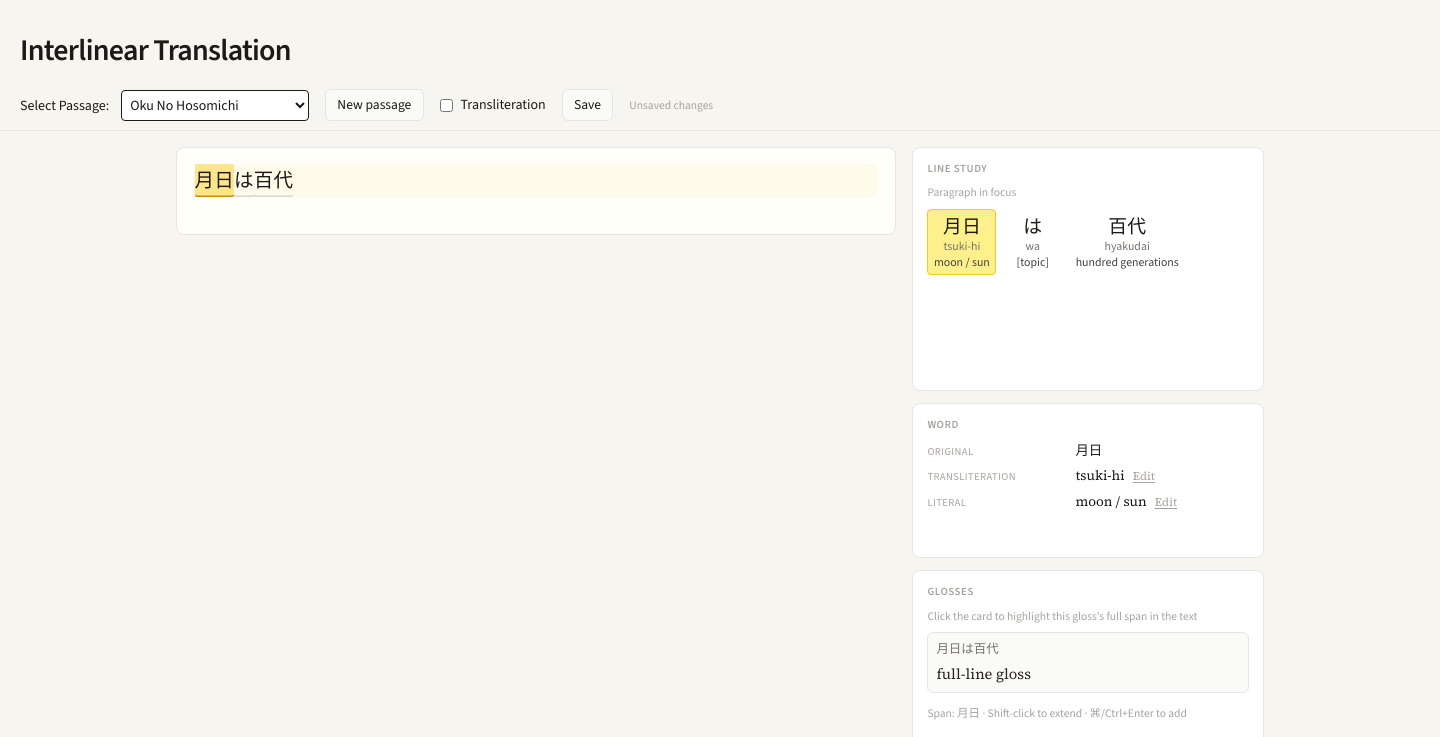
Test case: App component › edits word transliteration and literal in memory
Earlier steps of the test are not shown.
Expected: the element labelled "Word" shows "tsuki-hi", [1075,466,1125,485]
Click the button with class "field-edit-btn" in the row of "Literal". click: {"x": 1166, "y": 503}
box: [1155,494,1177,511]
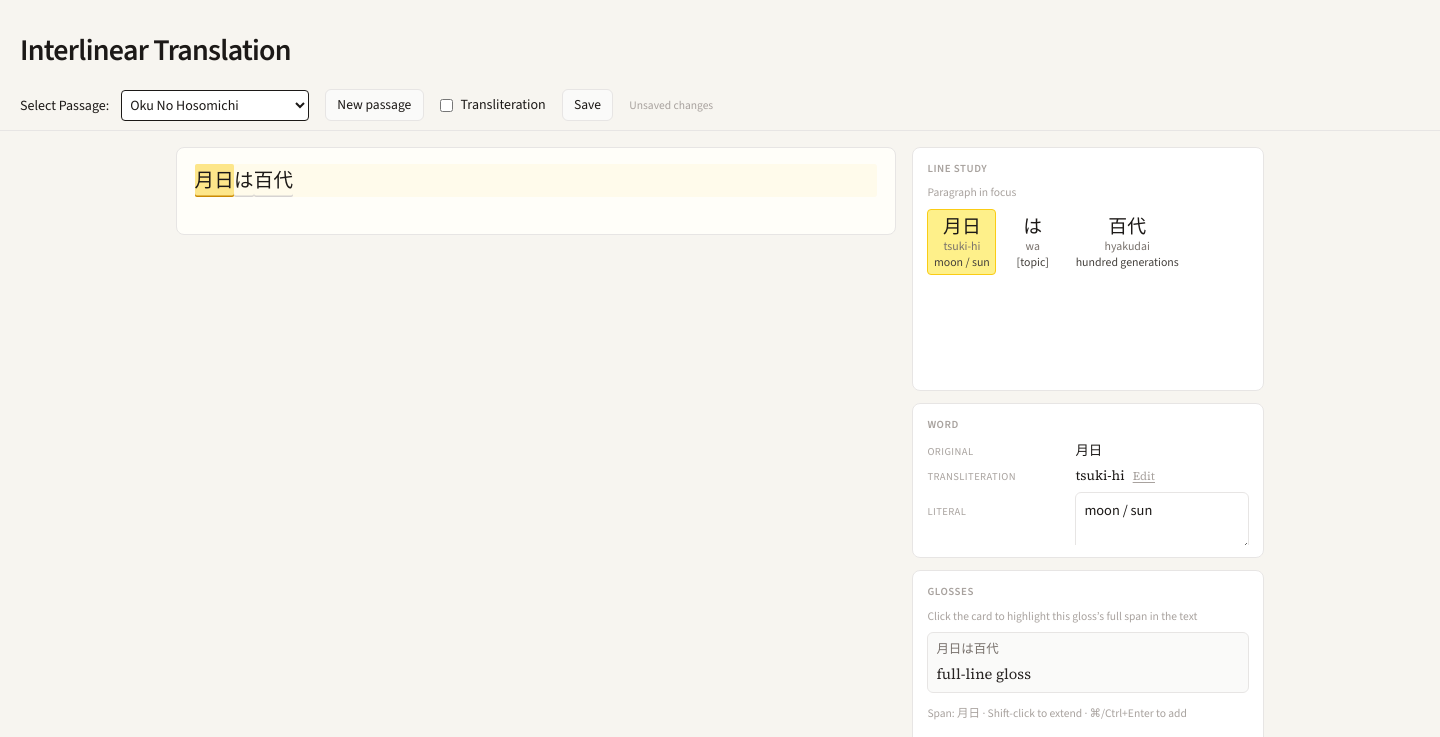
Replace the text in the text box named "Edit literal" with "days and months". click: {"x": 1162, "y": 522}
box: [1075,492,1249,552]
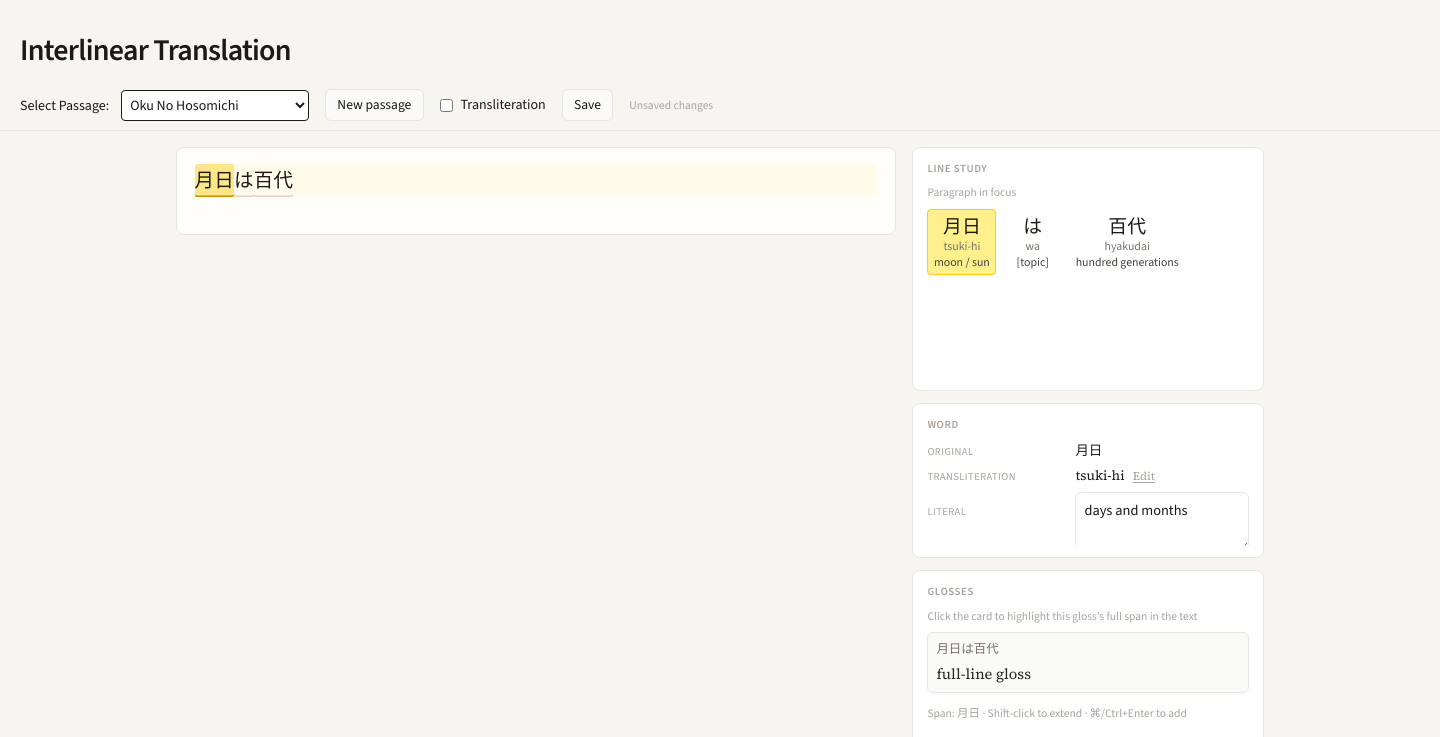
Press Enter in the text box named "Edit literal", box [1075,492,1249,552]
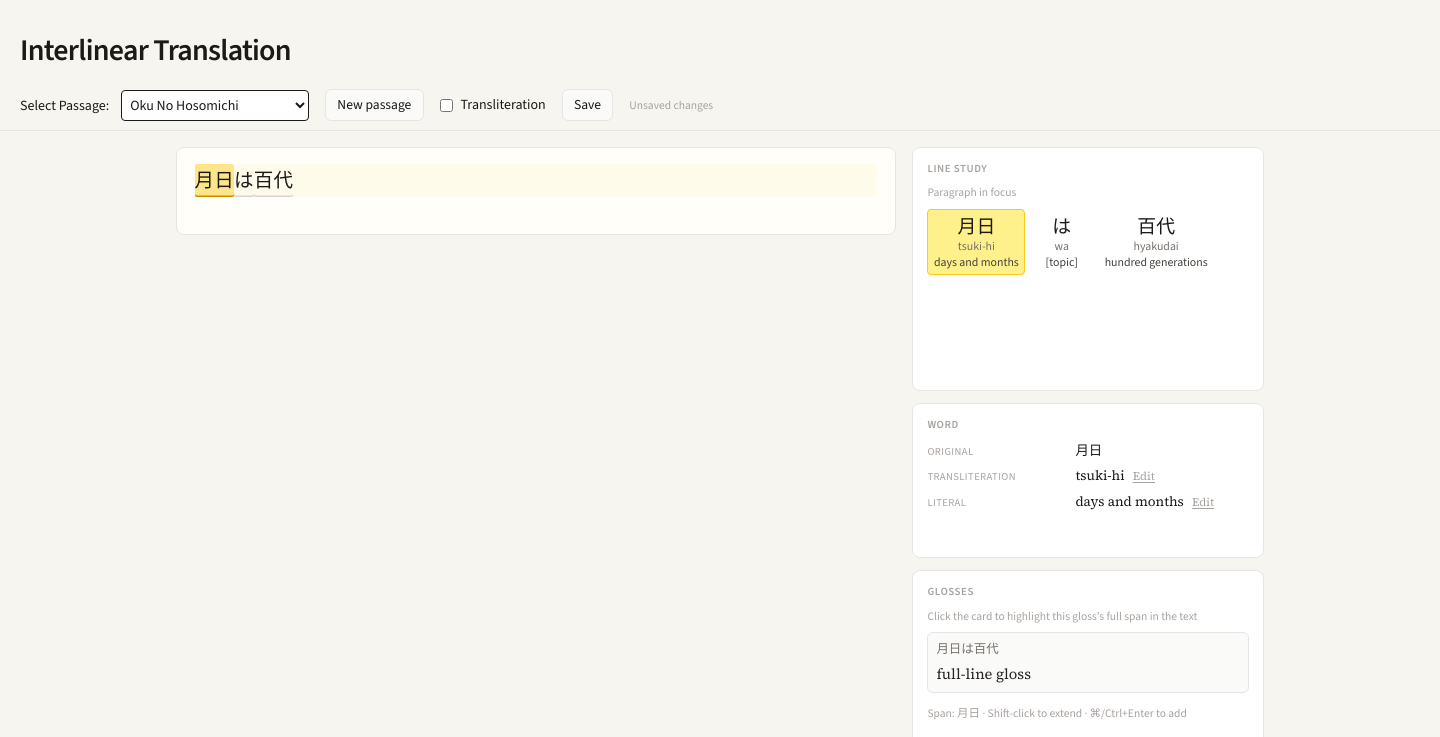
Now the element labelled "Word" shows "days and months", box [1075,492,1184,511]
